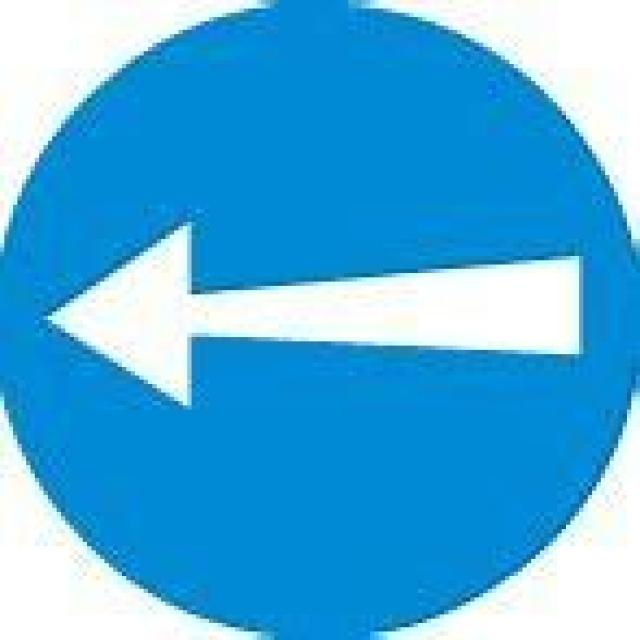compulsory_sound_horn: (0, 0, 636, 636)
